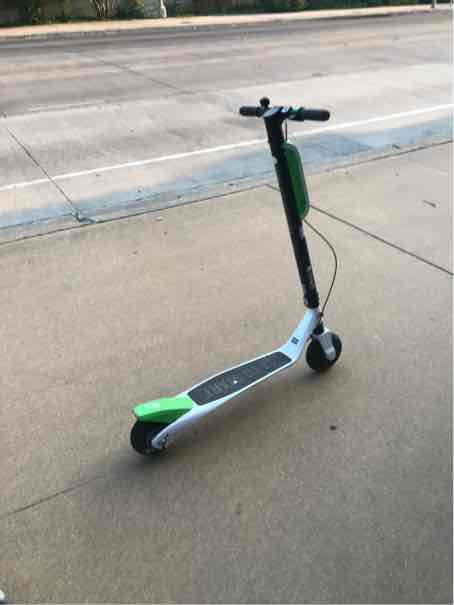scooter: (119, 87, 353, 464)
